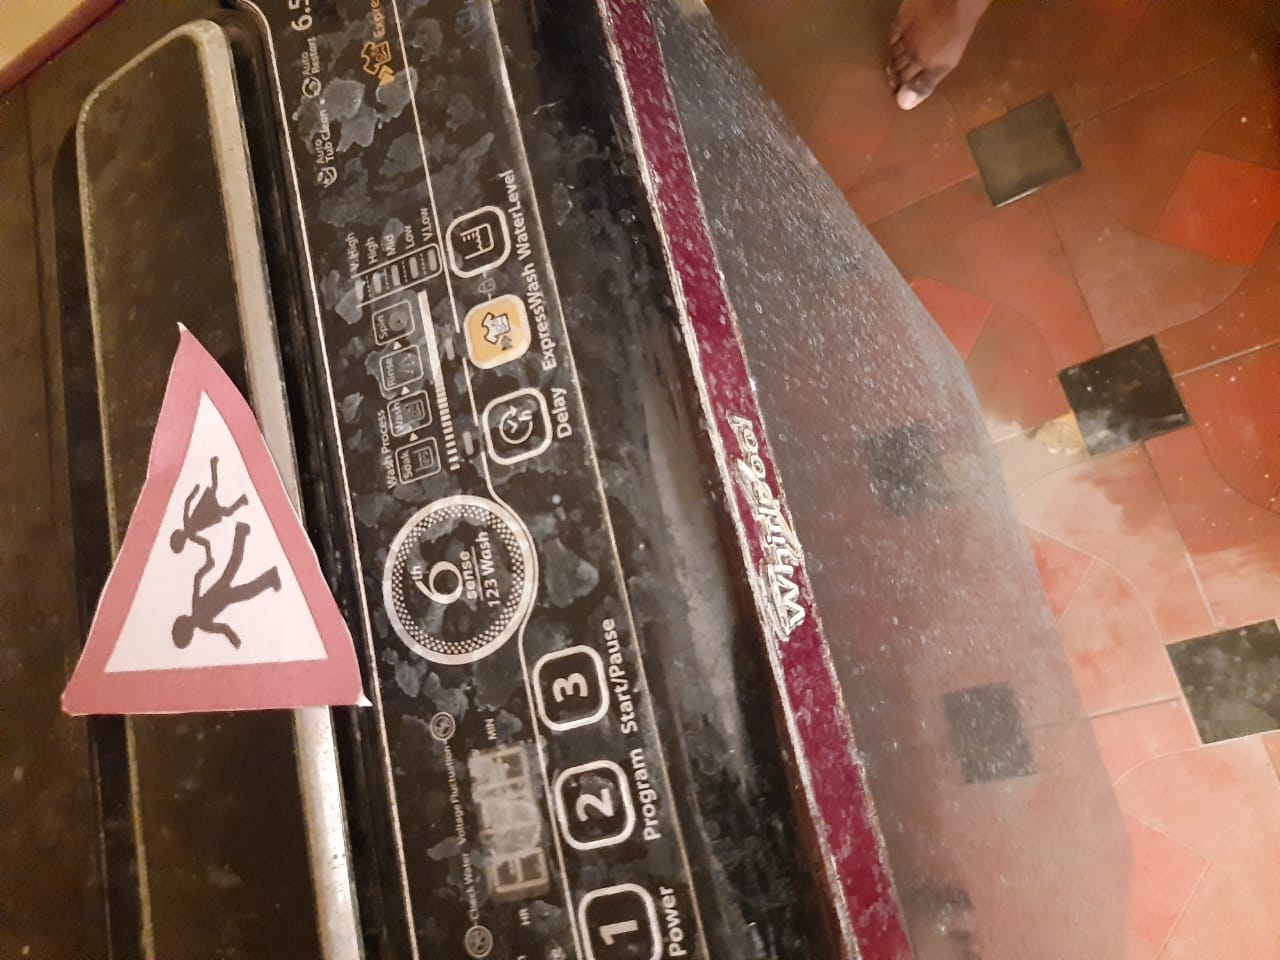SCHOOL ZONE: (51, 316, 381, 719)
